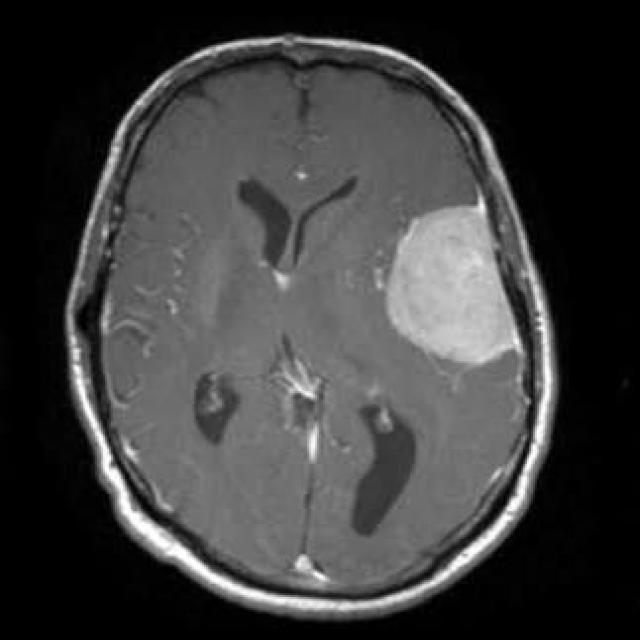Tumor: (388, 208, 520, 366)
